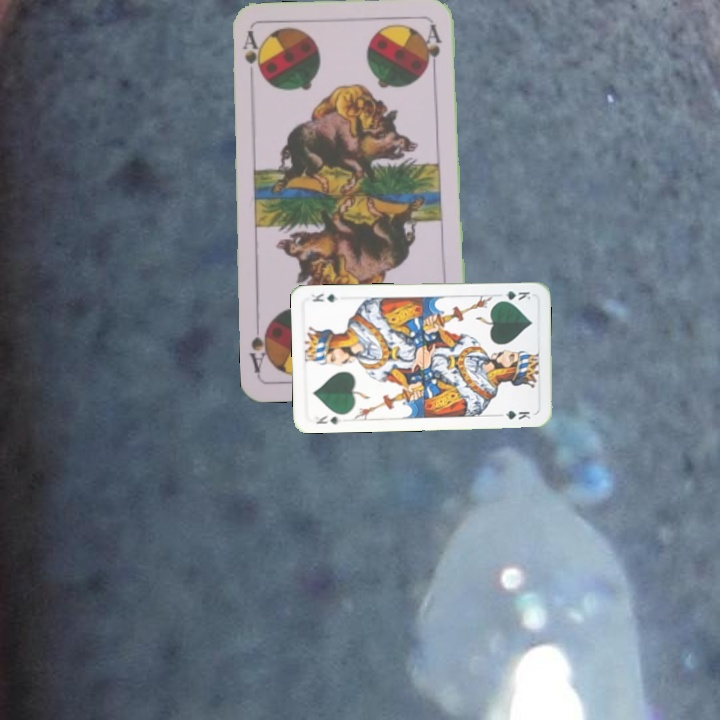GK: (494, 287, 533, 304), (312, 411, 344, 427)
SA: (239, 27, 265, 87)
